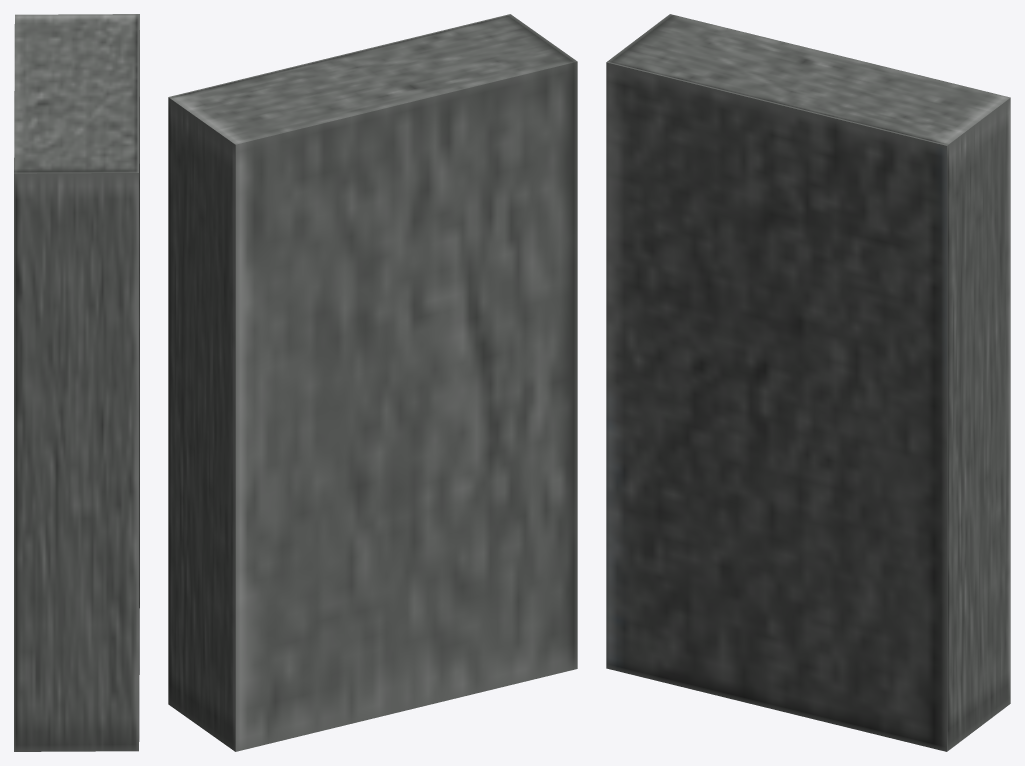
The model's file is brick7.fbx.
The picture shows the model from 3 angles, left to right: view 1: azimuth 30°, elevation 25°; view 2: azimuth 150°, elevation 25°; view 3: azimuth 270°, elevation 25°; orthographic projection. The views are drawn at different scales.
Visible parts, largest first — view 1: polySurface262; view 2: polySurface262; view 3: polySurface262.
Boxes of the visible parts, x1,y1,x2,y2 form: polySurface262: (14,14,139,751); polySurface262: (168,14,577,751); polySurface262: (606,14,1010,751).
Bounding box in the file's own units: 0.8503 × 1.82 × 1.1.
Materials: 1 (1 with a texture image).
